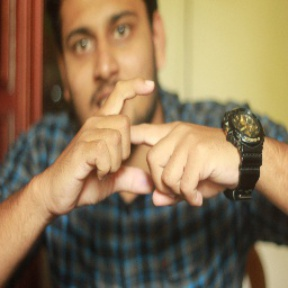E: (84, 76, 180, 202)
